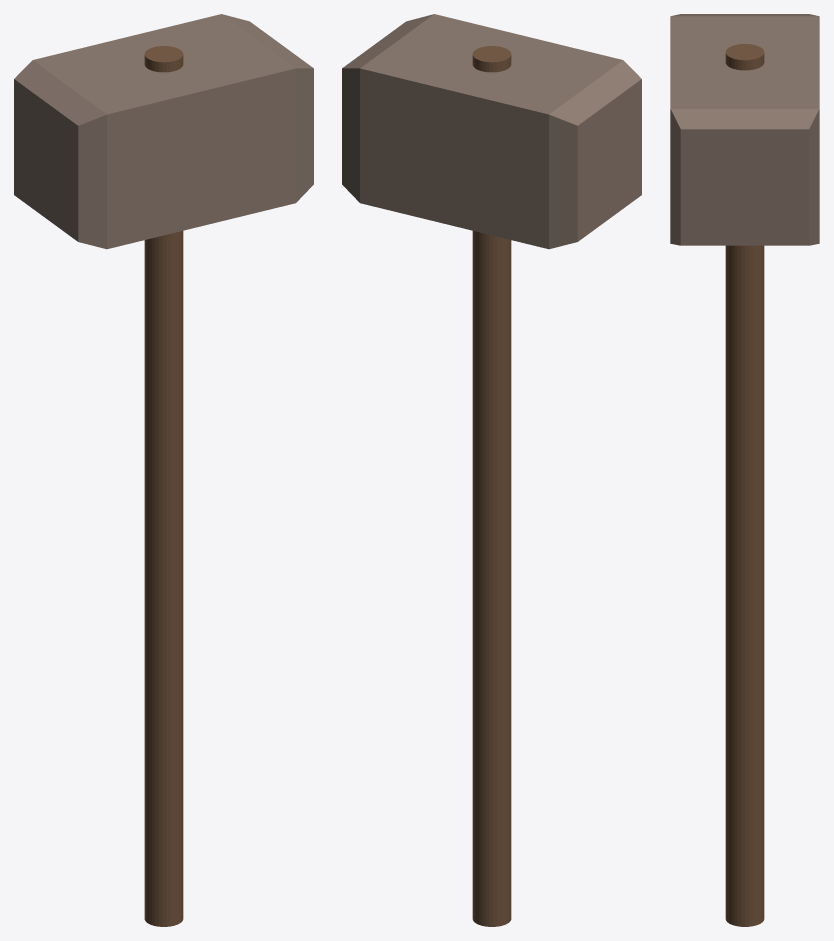
File: Molot.fbx
3 views of the same model, side by side, from view 1: azimuth 30°, elevation 25°; view 2: azimuth 150°, elevation 25°; view 3: azimuth 270°, elevation 25° (orthographic).
Visible parts, largest first — view 1: Molot; view 2: Molot; view 3: Molot.
Part boxes in pixels (box(x1,y1,x2,y2)): Molot: box(14, 14, 313, 926); Molot: box(342, 14, 641, 926); Molot: box(670, 14, 819, 926).
Size of the model in its own units: 130 by 454 by 70.79.
